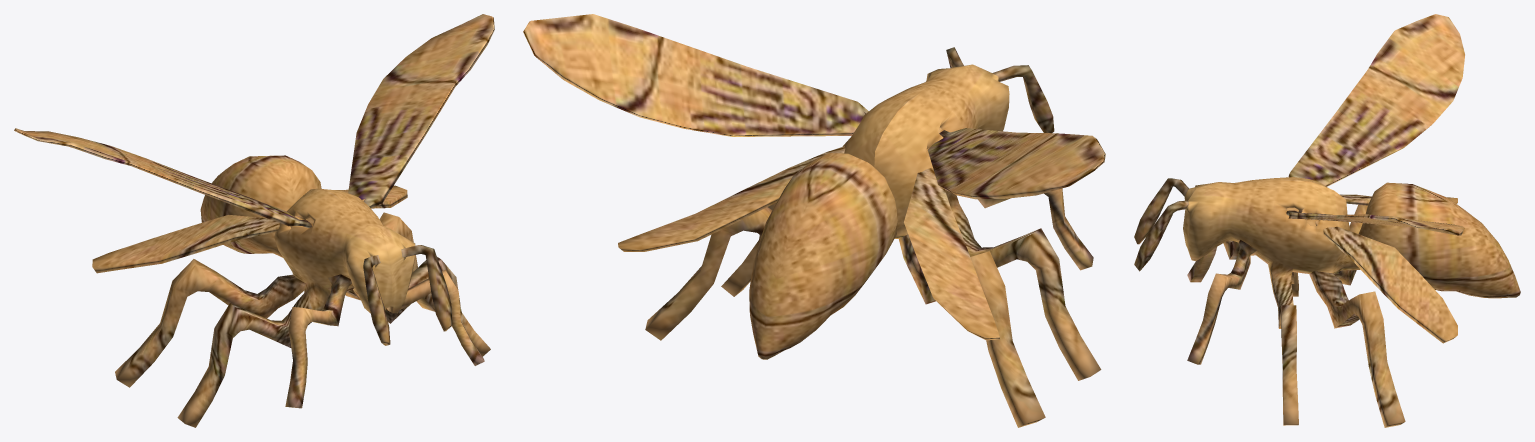
The model's file is bade2.obj.
The picture shows the model from 3 angles, left to right: view 1: azimuth 30°, elevation 25°; view 2: azimuth 150°, elevation 25°; view 3: azimuth 270°, elevation 25°; orthographic projection. The views are drawn at different scales.
Parts seen in each view (by area): view 1: bado2:wasp, bado2:polySurface2; view 2: bado2:wasp, bado2:polySurface2; view 3: bado2:wasp, bado2:polySurface2.
Part boxes in pixels (left/top/right/bottom): bado2:wasp: left=115, top=155, right=490, bottom=427; bado2:polySurface2: left=14, top=14, right=494, bottom=273; bado2:wasp: left=645, top=47, right=1101, bottom=427; bado2:polySurface2: left=523, top=14, right=1105, bottom=340; bado2:wasp: left=1134, top=177, right=1520, bottom=427; bado2:polySurface2: left=1286, top=14, right=1464, bottom=343.
Bounding box in the file's own units: 9.09 × 4.74 × 6.91.
1 material, 1 textured.
